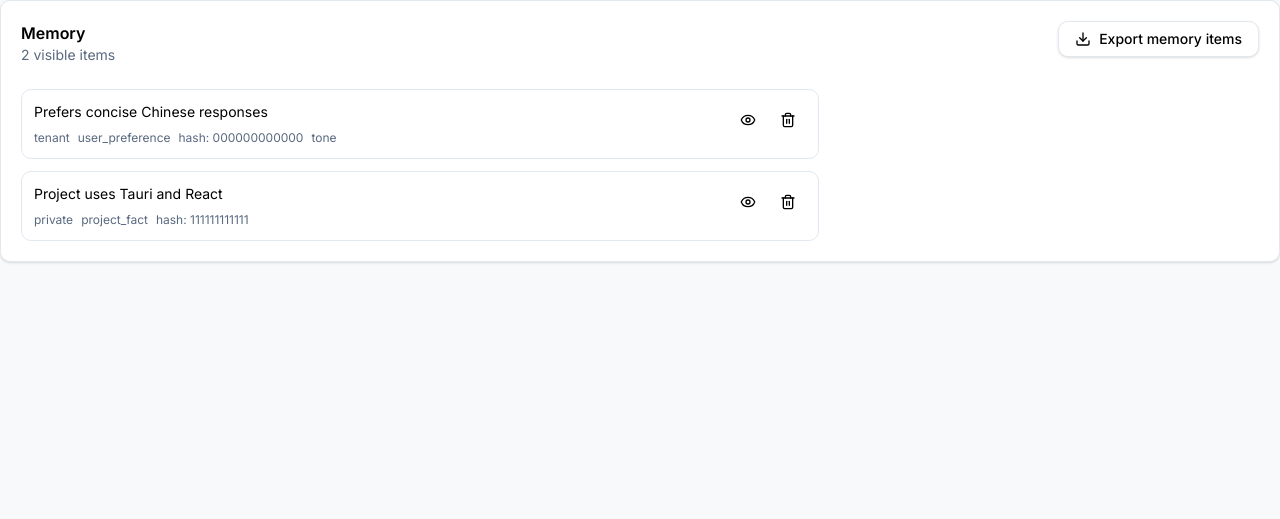
Test: MemoryBrowser › lists visible memory items and inspects the selected item
Expected: the text "tenant" is shown, [34,130,70,146]
Expected: the text "user_preference" is shown, [78,130,170,146]
Click the button named "Inspect memory item" in the row of "tone". click: (748, 120)
box: [730,102,766,138]
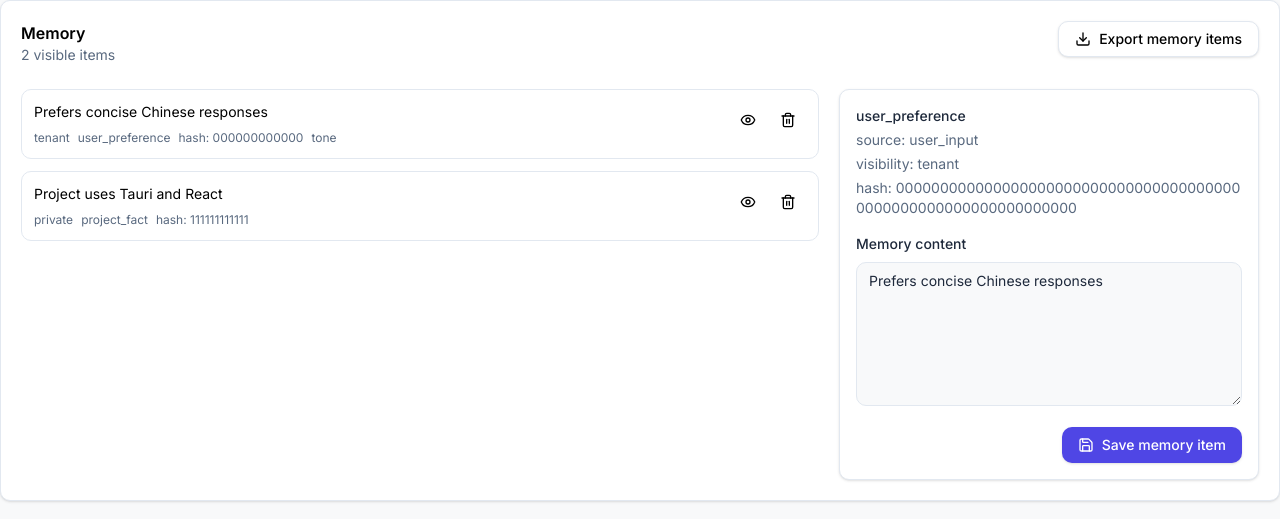
Expected: the text box showing "Prefers concise Chinese responses" is shown, [856,262,1242,406]
Expected: the text "source: user_input" is shown, [856,131,978,148]
